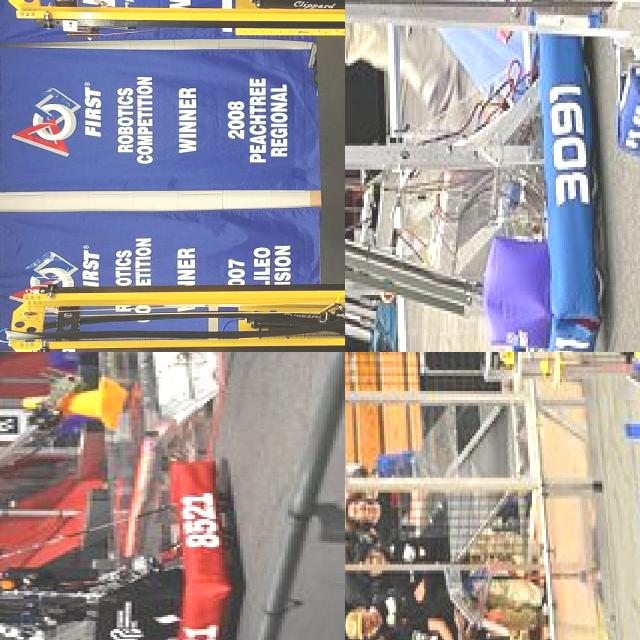FRC-Robots: (345, 21, 609, 352), (0, 377, 272, 640), (7, 0, 345, 159), (9, 226, 345, 352), (441, 352, 640, 529)
